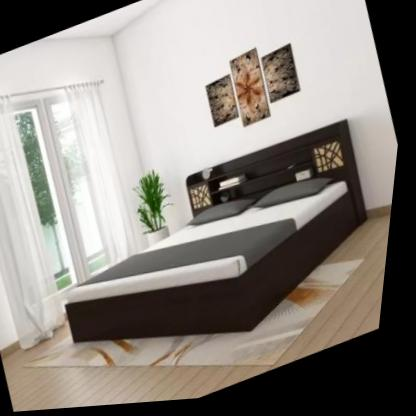Bed: (39, 122, 400, 389)
Curtains: (0, 83, 137, 350)
Frame: (224, 50, 280, 132), (257, 46, 308, 110), (203, 77, 246, 133)
Wooden floor: (8, 344, 314, 413), (288, 221, 396, 371)
